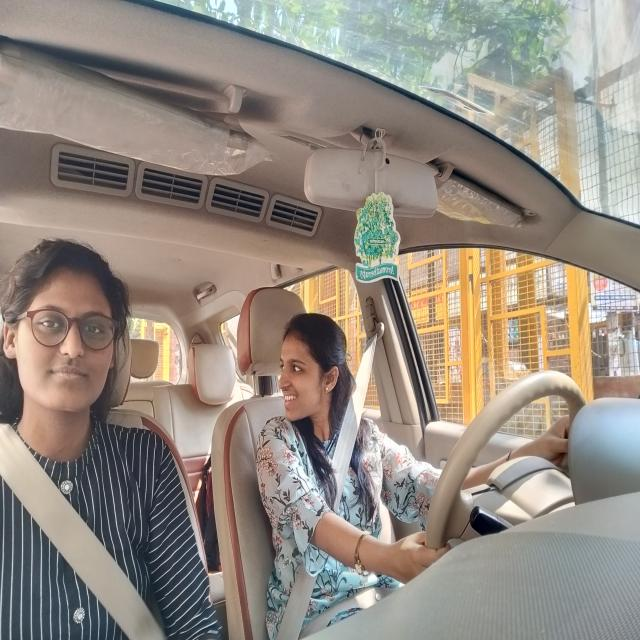LeftRight: (272, 311, 350, 428)
person: (1, 235, 129, 422)
talking: (281, 392, 304, 407)
